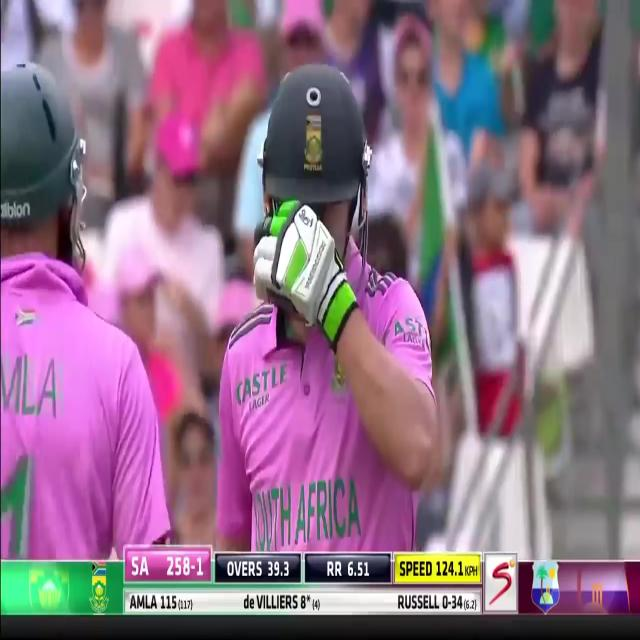Ball: (209, 62, 452, 556), (0, 56, 174, 564)
